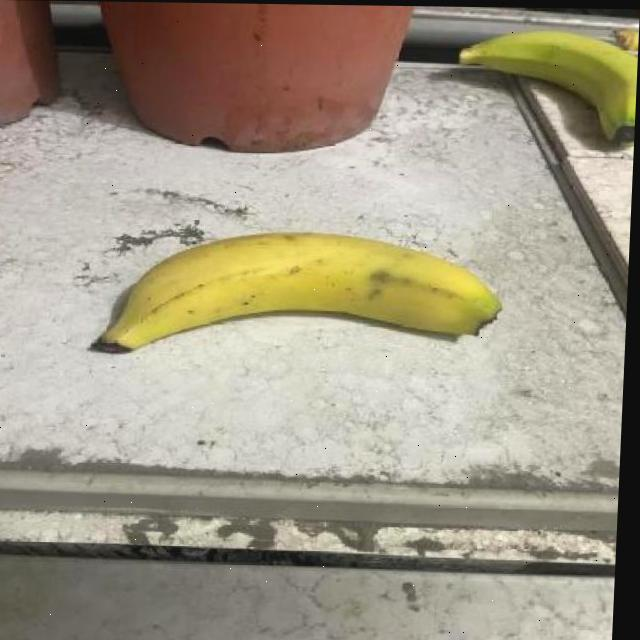banana: (88, 226, 510, 357)
